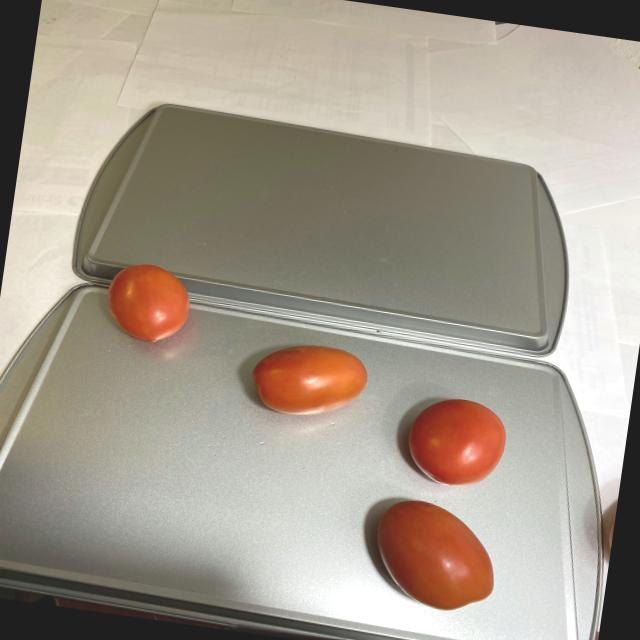tomato: (226, 336, 531, 620), (104, 262, 200, 352)
